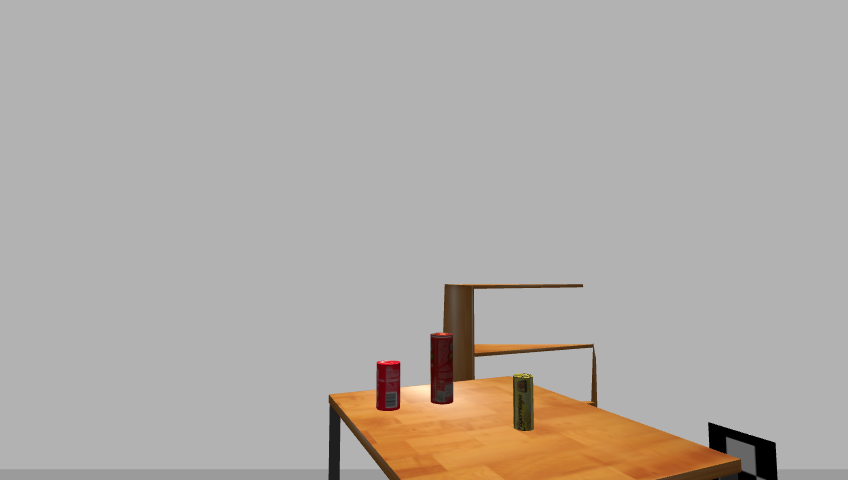aruco marker: (702, 421, 785, 480)
biscuits pack: (512, 373, 535, 432)
bookshelf: (439, 279, 601, 447)
coke can: (374, 360, 402, 412)
dinner table: (319, 377, 747, 480)
pringles can: (428, 332, 455, 406)
